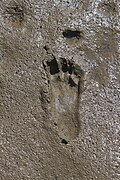human_foot_print: (44, 56, 83, 141)
